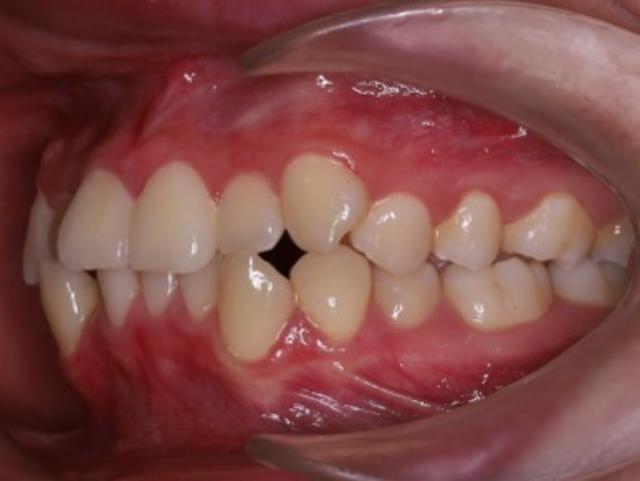canine class III 1/4: (216, 146, 378, 382)
molar class III 3/4: (442, 192, 632, 350)
